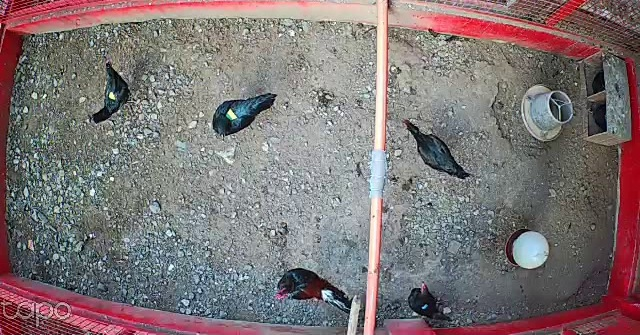Chicken: (395, 111, 474, 180), (208, 89, 278, 140), (91, 57, 138, 122), (409, 283, 453, 320)
Rooster: (274, 264, 353, 317)
Saddle_Color_Blue: (421, 304, 428, 311)
Saddle_Color_Yellow: (107, 92, 121, 101)
Saddle_Color_YellowGreen: (224, 108, 238, 122)
